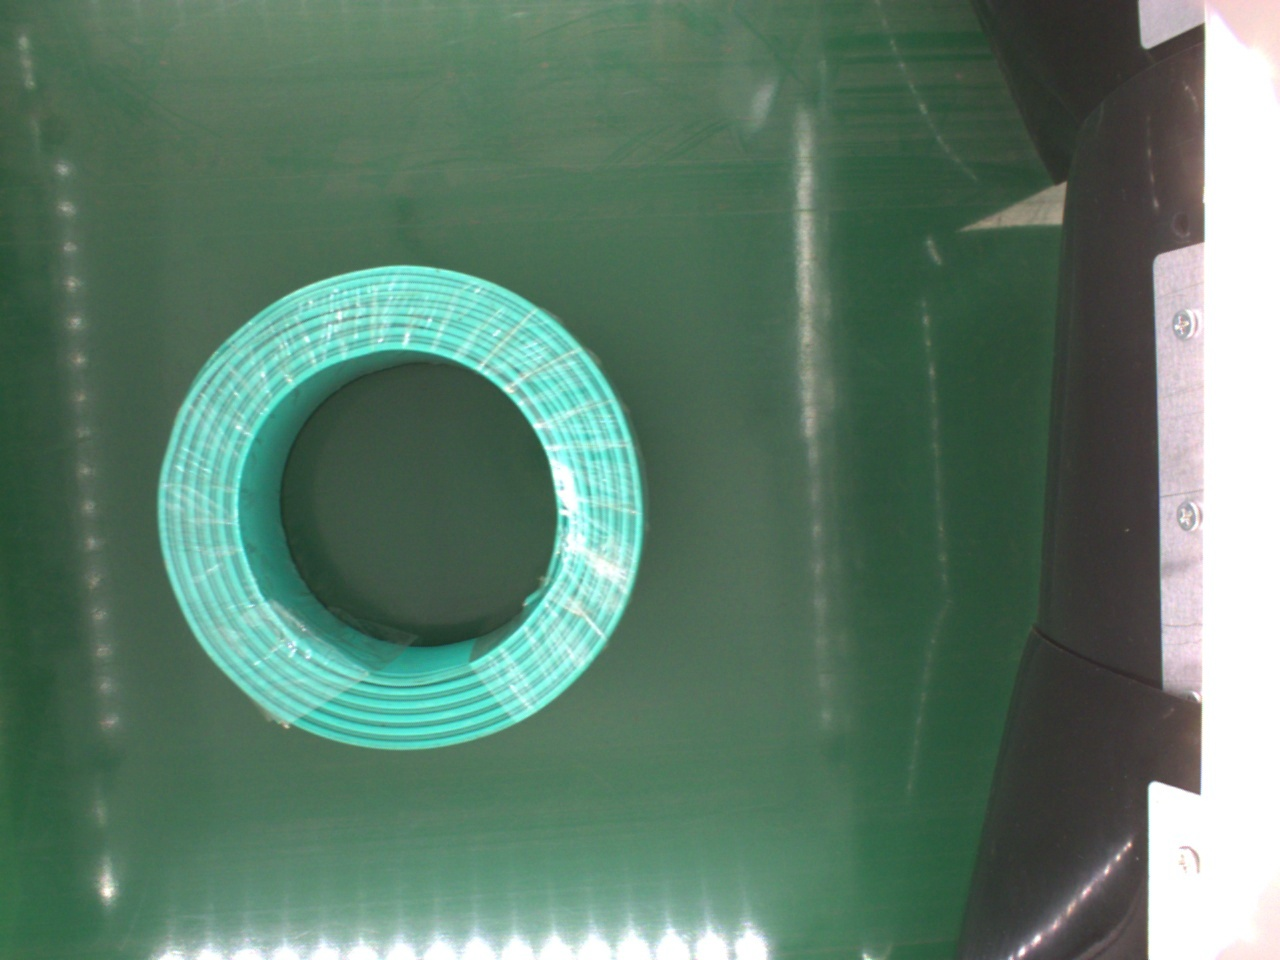green: (144, 261, 647, 765)
